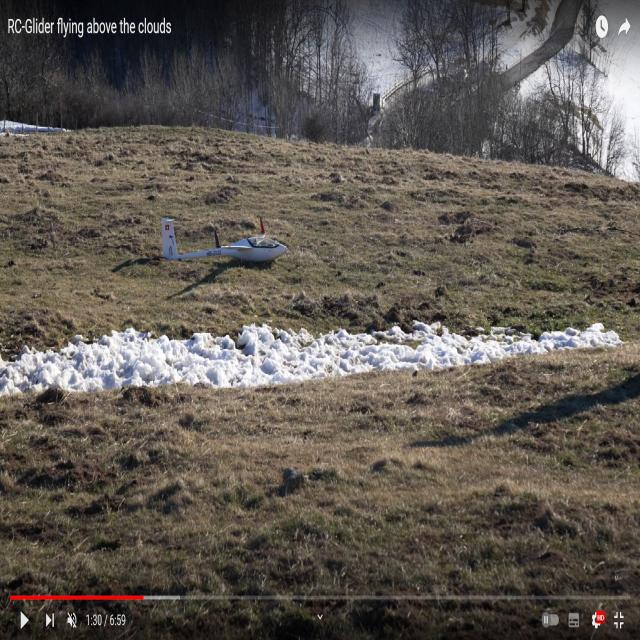iha: (193, 215, 256, 264)
